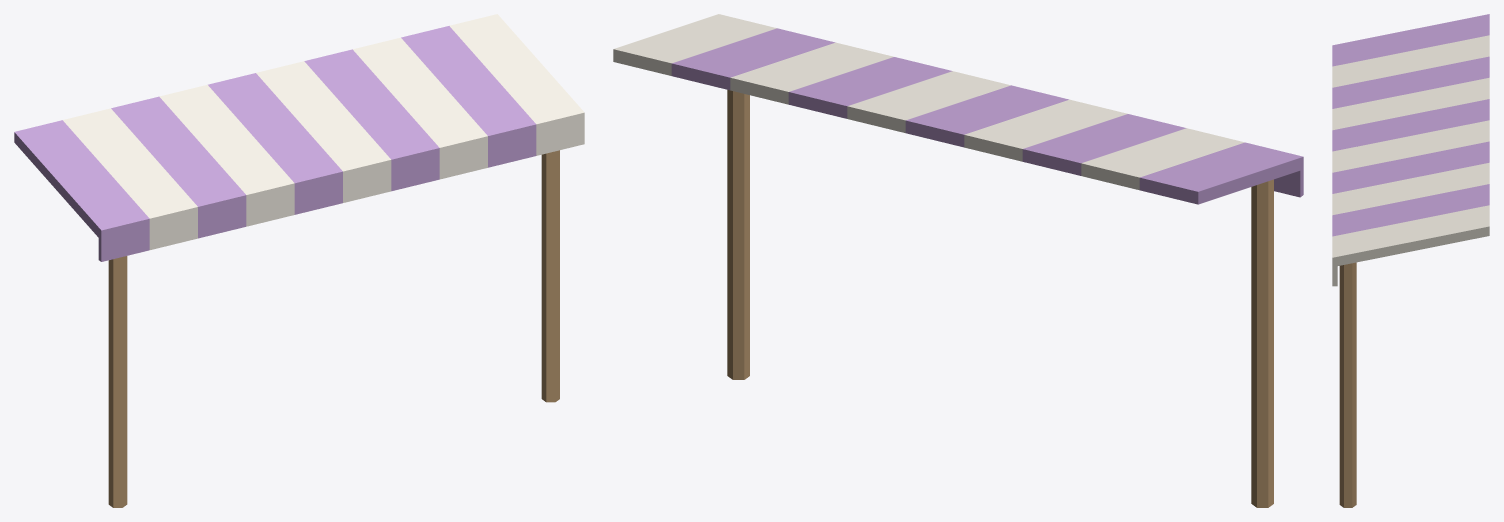
Rendered from awning_w4_8_mint.glb.
3 views of the same model, side by side, from view 1: azimuth 30°, elevation 25°; view 2: azimuth 150°, elevation 25°; view 3: azimuth 270°, elevation 25° (orthographic). The views are drawn at different scales.
Visible parts, largest first — view 1: Player; view 2: Player; view 3: Player.
Boxes of the visible parts, box(x1,y1,x2,y2) form: Player: box(14, 14, 584, 507); Player: box(613, 14, 1303, 507); Player: box(1332, 14, 1489, 507).
Size of the model in its own units: 4.8 by 3.05 by 1.5.
